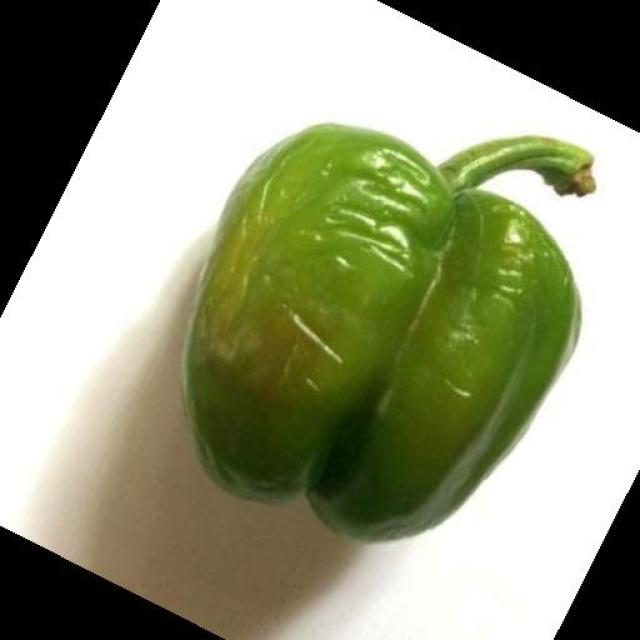Stale_Capsicum: (216, 89, 588, 523)
